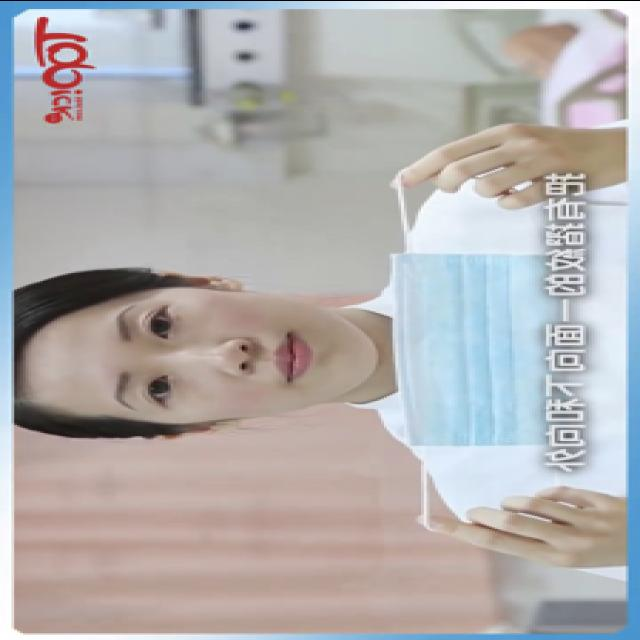no_mask: (97, 284, 376, 422)
